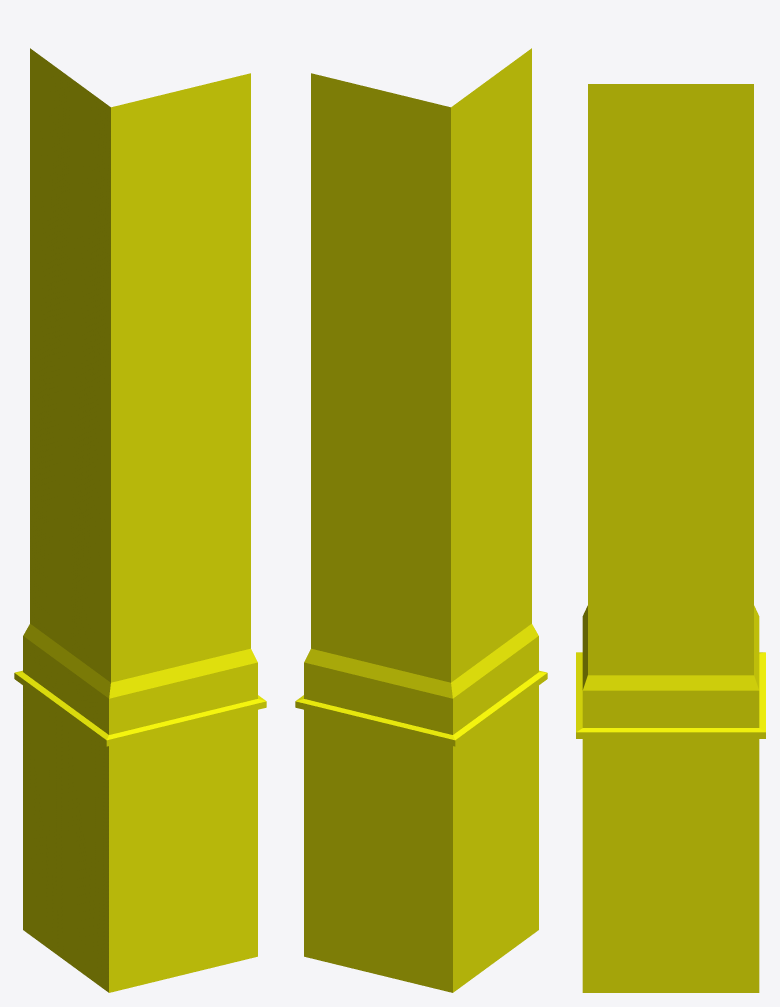
The model's file is metal-column-bottom.glb.
3 renders of one model, left to right at view 1: azimuth 30°, elevation 25°; view 2: azimuth 150°, elevation 25°; view 3: azimuth 270°, elevation 25°, orthographic. The views are drawn at different scales.
Parts seen in each view (by area): view 1: Metal_Column_Bottom; view 2: Metal_Column_Bottom; view 3: Metal_Column_Bottom.
Boxes of the visible parts, <box> form: Metal_Column_Bottom: <box>14,48,266,992</box>; Metal_Column_Bottom: <box>295,48,547,992</box>; Metal_Column_Bottom: <box>576,84,765,992</box>.
Size of the model in its own units: 0.569 by 3 by 0.5694.
Materials: 1 (1 with a texture image).
